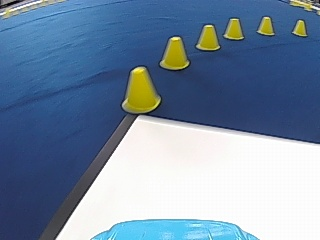cone: (121, 66, 161, 113), (160, 36, 189, 70), (196, 24, 220, 51), (224, 17, 244, 40), (257, 16, 274, 35), (292, 20, 307, 37)
